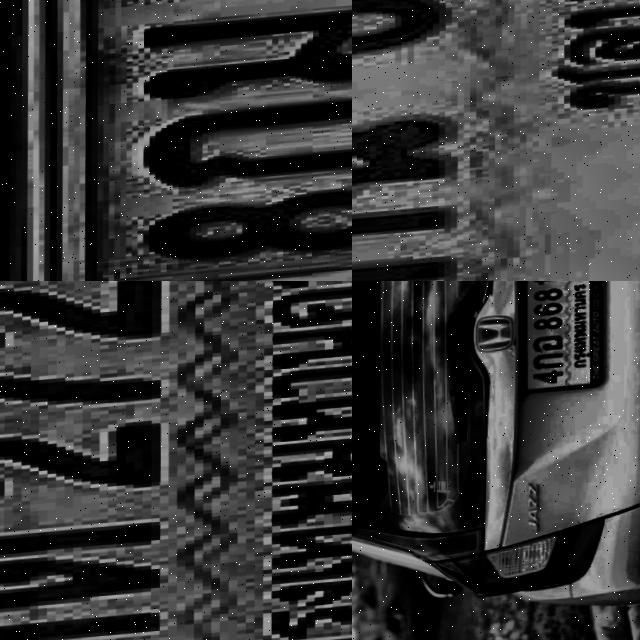license-plate: (0, 281, 352, 640), (6, 0, 352, 281), (352, 0, 640, 281), (515, 281, 608, 400)
